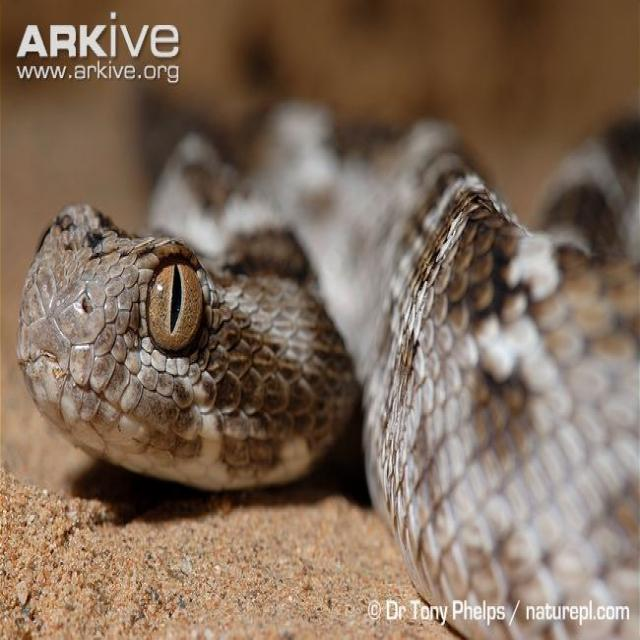Snake: (16, 95, 638, 638)
